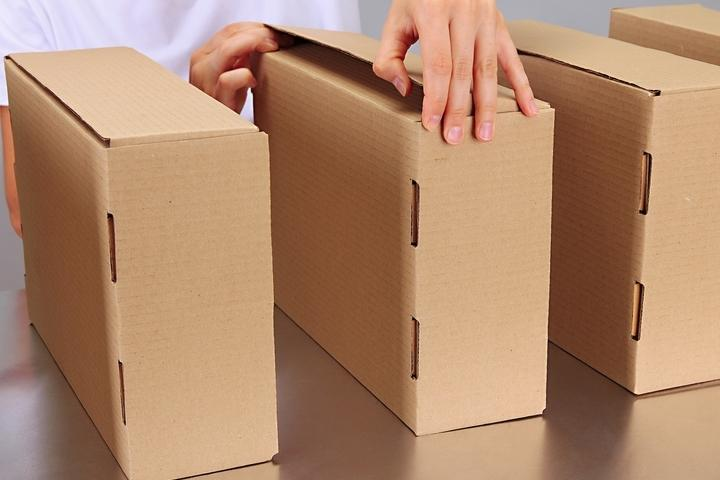cardboard: (237, 0, 580, 456), (0, 17, 313, 480), (490, 0, 720, 417)
